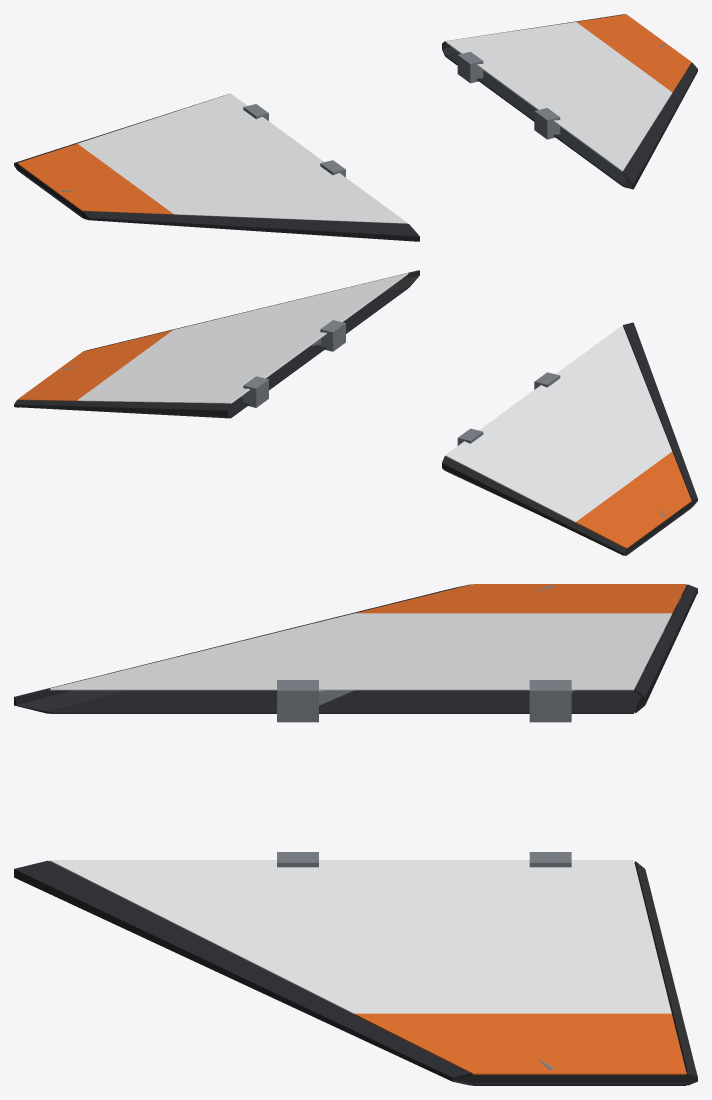
The model's file is nomad_wing_stock.fbx.
The picture shows the model from 3 angles, top to bottom: view 1: azimuth 30°, elevation 25°; view 2: azimuth 150°, elevation 25°; view 3: azimuth 270°, elevation 25°; orthographic projection. The views are drawn at different scales.
Visible parts, largest first — view 1: Stabilizer_Top_L, Stabilizer_Top_R, Stabilizer_LE_L, Stabilizer_Bottom_R, Stabilizer_LE_R, Stabilizer_Structure_R, Stabilizer_Structure_L, Stabilizer_Tip_L; view 2: Stabilizer_Top_L, Stabilizer_Top_R, Stabilizer_TE_R, Stabilizer_TE_L, Stabilizer_LE_L, Stabilizer_Bottom_R, Stabilizer_Structure_R, Stabilizer_LE_R, Stabilizer_Structure_L; view 3: Stabilizer_Top_R, Stabilizer_Top_L, Stabilizer_LE_R, Stabilizer_Bottom_L, Stabilizer_Structure_L, Stabilizer_TE_R, Stabilizer_LE_L, Stabilizer_Tip_R, Stabilizer_TE_L, Stabilizer_Structure_R.
Part boxes in pixels (left/top/right/bottom): Stabilizer_Top_L: left=17, top=93, right=408, bottom=223; Stabilizer_Top_R: left=445, top=14, right=691, bottom=171; Stabilizer_LE_L: left=83, top=211, right=419, bottom=241; Stabilizer_Bottom_R: left=445, top=53, right=688, bottom=186; Stabilizer_LE_R: left=622, top=62, right=697, bottom=189; Stabilizer_Structure_R: left=457, top=44, right=685, bottom=157; Stabilizer_Structure_L: left=62, top=104, right=345, bottom=191; Stabilizer_Tip_L: left=15, top=162, right=88, bottom=218; Stabilizer_Top_L: left=445, top=325, right=691, bottom=548; Stabilizer_Top_R: left=18, top=273, right=408, bottom=403; Stabilizer_TE_R: left=14, top=400, right=230, bottom=418; Stabilizer_TE_L: left=442, top=456, right=626, bottom=555; Stabilizer_LE_L: left=623, top=322, right=697, bottom=507; Stabilizer_Bottom_R: left=228, top=287, right=408, bottom=418; Stabilizer_Structure_R: left=62, top=320, right=345, bottom=407; Stabilizer_LE_R: left=83, top=270, right=419, bottom=351; Stabilizer_Structure_L: left=457, top=372, right=664, bottom=516; Stabilizer_Top_R: left=50, top=860, right=686, bottom=1074; Stabilizer_Top_L: left=50, top=584, right=686, bottom=690; Stabilizer_LE_R: left=14, top=860, right=471, bottom=1085; Stabilizer_Bottom_L: left=50, top=596, right=681, bottom=713; Stabilizer_Structure_L: left=277, top=585, right=681, bottom=722; Stabilizer_TE_R: left=634, top=861, right=697, bottom=1085; Stabilizer_LE_L: left=14, top=584, right=470, bottom=713; Stabilizer_Tip_R: left=453, top=1071, right=697, bottom=1085; Stabilizer_TE_L: left=634, top=584, right=697, bottom=712; Stabilizer_Structure_R: left=277, top=852, right=683, bottom=1069.
Size of the model in its own units: 330 by 22.02 by 195.
